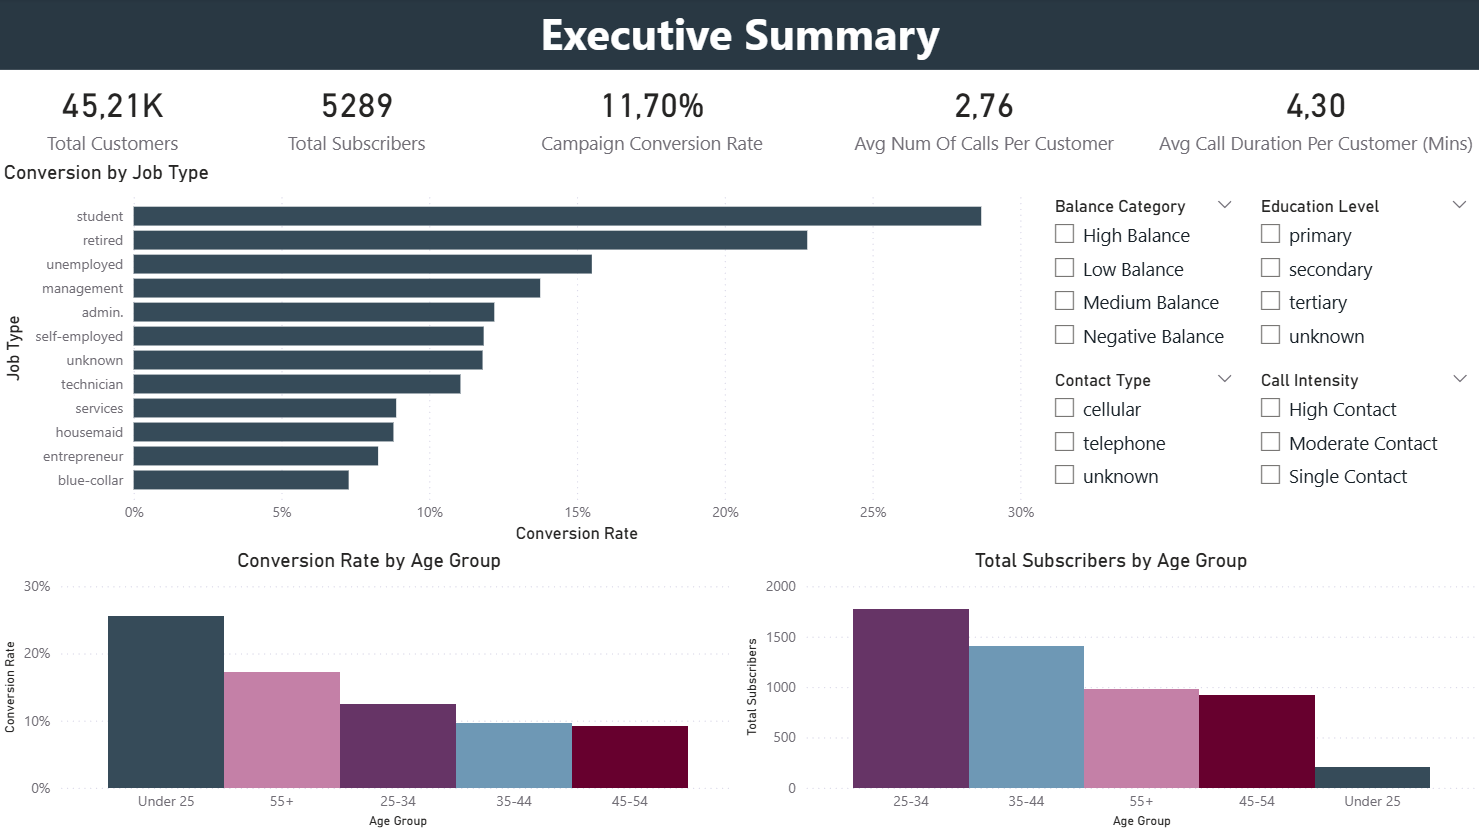

The page's visual inventory and layout, read from the dashboard file:
{"tool":"powerbi","page":{"name":"Excecutive Summary","canvas":[1280,720],"ordinal":0},"visuals":[{"type":"card","fields":{"Values":["CountNonNull(bank_marketing_clean.job_type)"]},"box":[0,62.1,197.5,77.6],"z":0},{"type":"textbox","box":[0,0,1280,62.1],"z":1000},{"type":"card","fields":{"Values":["bank_marketing_clean.conversion_rate"]},"box":[420.9,62.1,286.4,77.6],"z":2000},{"type":"card","fields":{"Values":["bank_marketing_clean.Total Subscribers"]},"box":[197.5,62.1,223.4,77.6],"z":3000},{"type":"card","fields":{"Values":["Avg(bank_marketing_clean.campaign_contacts)"]},"box":[707.3,62.1,286.4,77.6],"z":4000},{"type":"card","fields":{"Values":["bank_marketing_clean.Avg Call Minutes"]},"box":[993.6,62.1,286.4,77.6],"z":5000},{"type":"columnChart","title":"Conversion Rate by Age Group ","fields":{"Category":["bank_marketing_clean.age_group"],"Y":["bank_marketing_clean.Conversion Rate"],"Series":["bank_marketing_clean.age_group"]},"box":[0,474.4,640,245.8],"z":6000},{"type":"columnChart","title":"Total Subscribers by Age Group","fields":{"Category":["bank_marketing_clean.age_group"],"Y":["bank_marketing_clean.Total Subscribers"],"Series":["bank_marketing_clean.age_group"]},"box":[640,474.4,640,245.8],"z":7000},{"type":"clusteredBarChart","title":"Conversion by Job Type","fields":{"Category":["bank_marketing_clean.job_type"],"Y":["bank_marketing_clean.Conversion Rate"]},"box":[0,139.7,898.8,334.7],"z":8000},{"type":"slicer","fields":{"Values":["bank_marketing_clean.education_level"]},"box":[1076.9,166.8,203.1,149.9],"z":9000},{"type":"slicer","fields":{"Values":["bank_marketing_clean.balance_category"]},"box":[898.6,166.8,178.3,149.9],"z":10000},{"type":"slicer","fields":{"Values":["bank_marketing_clean.contact_type"]},"box":[898.6,316.7,178.3,140.2],"z":11000},{"type":"slicer","fields":{"Values":["bank_marketing_clean.campaign_intensity"]},"box":[1076.4,316.5,203.6,140.6],"z":12000}]}

Visuals, with their boxes in screenshot pixels (x1, y1, x2, y2), scaled from the page's 1280x720 canvas onto the 1479x831 screenshot:
card - CountNonNull(bank_marketing_clean.job_type): 0 72 228 161
textbox: 0 0 1478 72
card - bank_marketing_clean.conversion_rate: 486 72 817 161
card - bank_marketing_clean.Total Subscribers: 228 72 486 161
card - Avg(bank_marketing_clean.campaign_contacts): 817 72 1148 161
card - bank_marketing_clean.Avg Call Minutes: 1148 72 1478 161
"Conversion Rate by Age Group " columnChart: 0 548 740 830
"Total Subscribers by Age Group" columnChart: 740 548 1478 830
"Conversion by Job Type" clusteredBarChart: 0 161 1039 548
slicer - bank_marketing_clean.education_level: 1244 193 1478 366
slicer - bank_marketing_clean.balance_category: 1038 193 1244 366
slicer - bank_marketing_clean.contact_type: 1038 366 1244 527
slicer - bank_marketing_clean.campaign_intensity: 1244 365 1478 528
